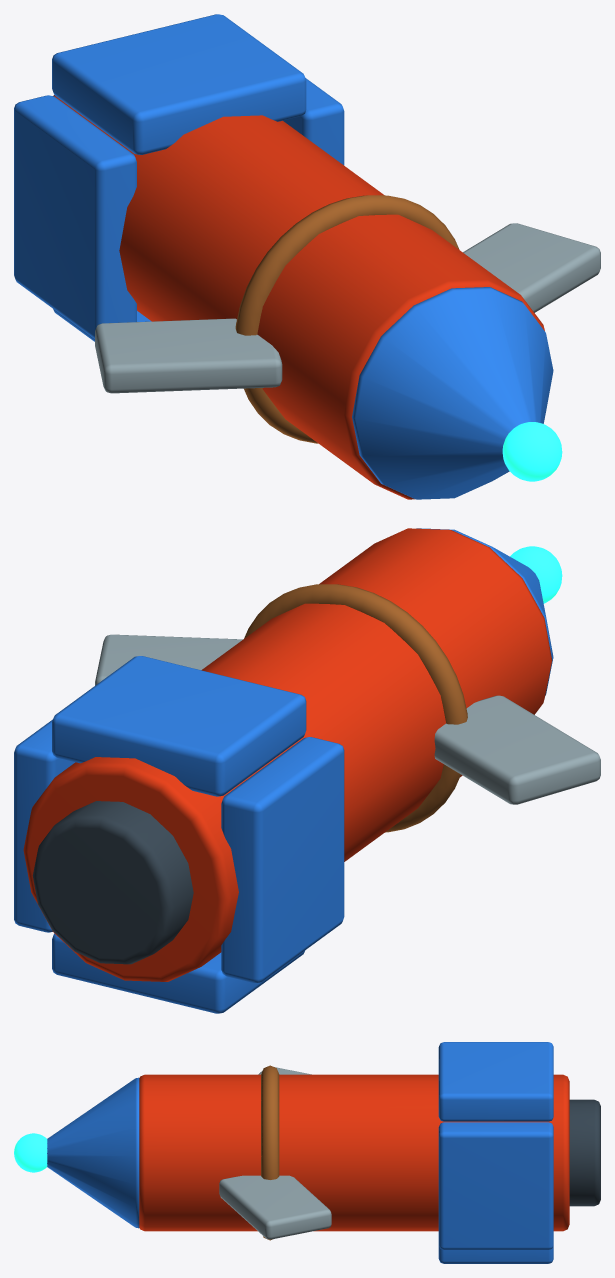
Rendered from Missile_Special.fbx.
The picture shows the model from 3 angles, top to bottom: view 1: azimuth 30°, elevation 25°; view 2: azimuth 150°, elevation 25°; view 3: azimuth 270°, elevation 25°; orthographic projection. The views are drawn at different scales.
Parts seen in each view (by area): view 1: Rocket body.001, Seeker nose.001, Tail stabilizer.006, Tail stabilizer.005, Guidance wing, Identification band.001, Guidance wing.001, Guidance lens, Tail stabilizer.004; view 2: Rocket body.001, Tail stabilizer.006, Tail stabilizer.005, Engine nozzle.001, Guidance wing, Identification band.001, Tail stabilizer.007, Tail stabilizer.004, Guidance wing.001, Guidance lens, Seeker nose.001; view 3: Rocket body.001, Tail stabilizer.004, Tail stabilizer.005, Seeker nose.001, Guidance wing.001, Engine nozzle.001, Identification band.001, Tail stabilizer.007, Guidance lens.
Boxes of the visible parts, x1,y1,x2,y2 form: Rocket body.001: (53,95,544,499); Seeker nose.001: (352,287,553,499); Tail stabilizer.006: (14,95,136,338); Tail stabilizer.005: (52,14,306,154); Guidance wing: (95,318,282,393); Identification band.001: (235,195,459,443); Guidance wing.001: (463,223,600,312); Guidance lens: (502,422,562,481); Tail stabilizer.004: (283,78,344,165); Rocket body.001: (23,528,552,981); Tail stabilizer.006: (221,737,344,982); Tail stabilizer.005: (52,656,306,796); Engine nozzle.001: (32,801,193,964); Guidance wing: (434,695,600,804); Identification band.001: (244,584,467,832); Tail stabilizer.007: (52,933,304,1013); Tail stabilizer.004: (14,719,74,932); Guidance wing.001: (95,634,242,685); Guidance lens: (510,546,562,603); Seeker nose.001: (416,528,553,695); Rocket body.001: (139,1074,569,1231); Tail stabilizer.004: (438,1122,553,1249); Tail stabilizer.005: (438,1042,553,1121); Seeker nose.001: (47,1077,139,1228); Guidance wing.001: (219,1175,331,1239); Engine nozzle.001: (569,1099,600,1206); Identification band.001: (261,1065,279,1240); Tail stabilizer.007: (438,1245,553,1263); Guidance lens: (14,1133,47,1172).
Bounding box in the file's own units: 143 × 72 × 224.
